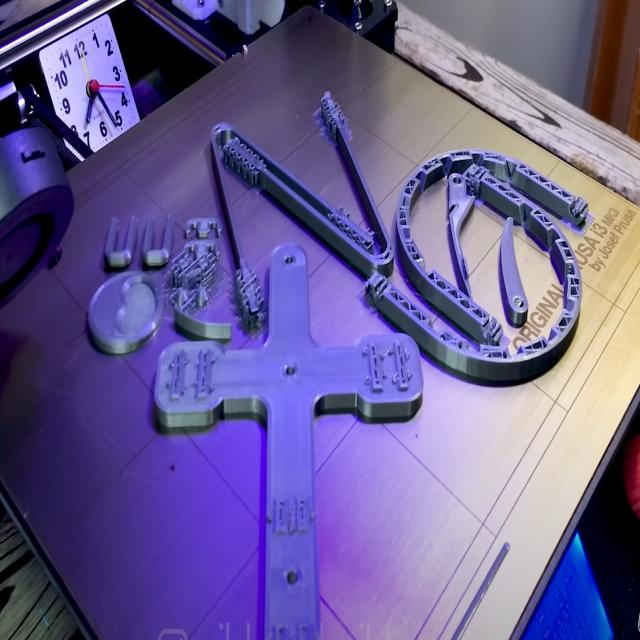Without deffect: (78, 45, 596, 640)
